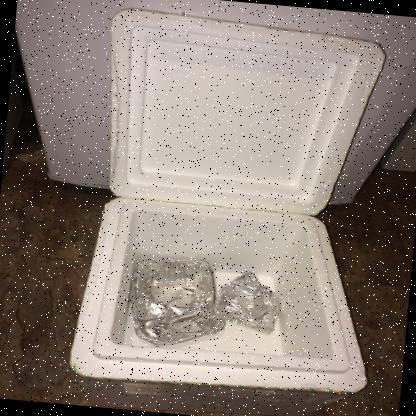Aluminium foil: (129, 259, 231, 347), (215, 271, 279, 335)
Styrofoam piece: (69, 9, 385, 416)
